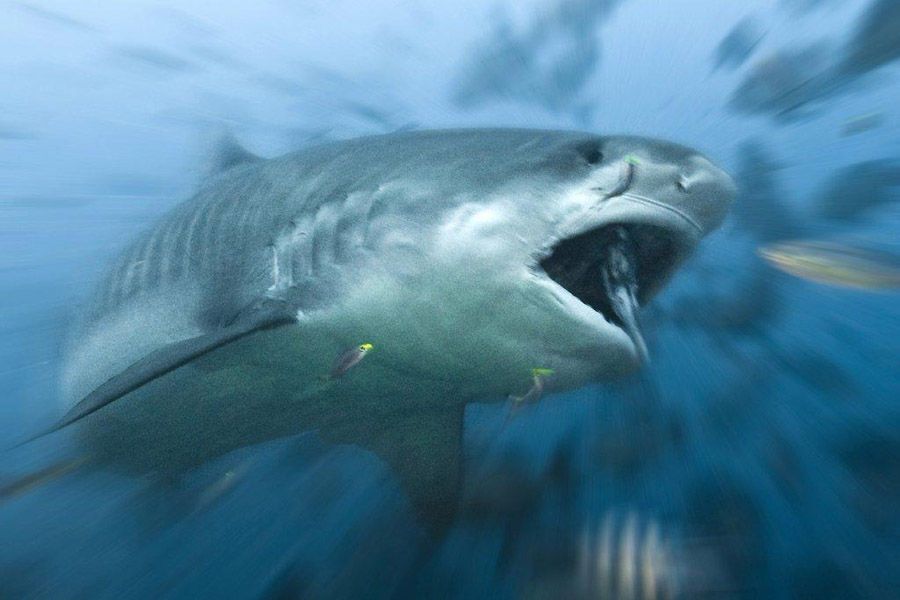shark: (1, 120, 742, 555)
